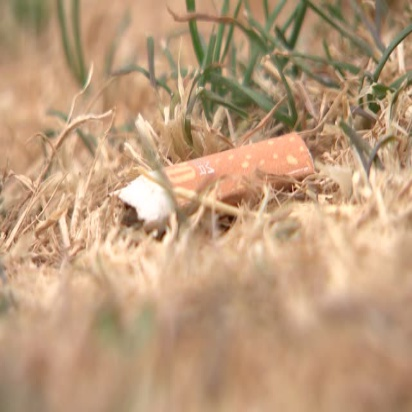cigarette: (104, 129, 322, 225)
